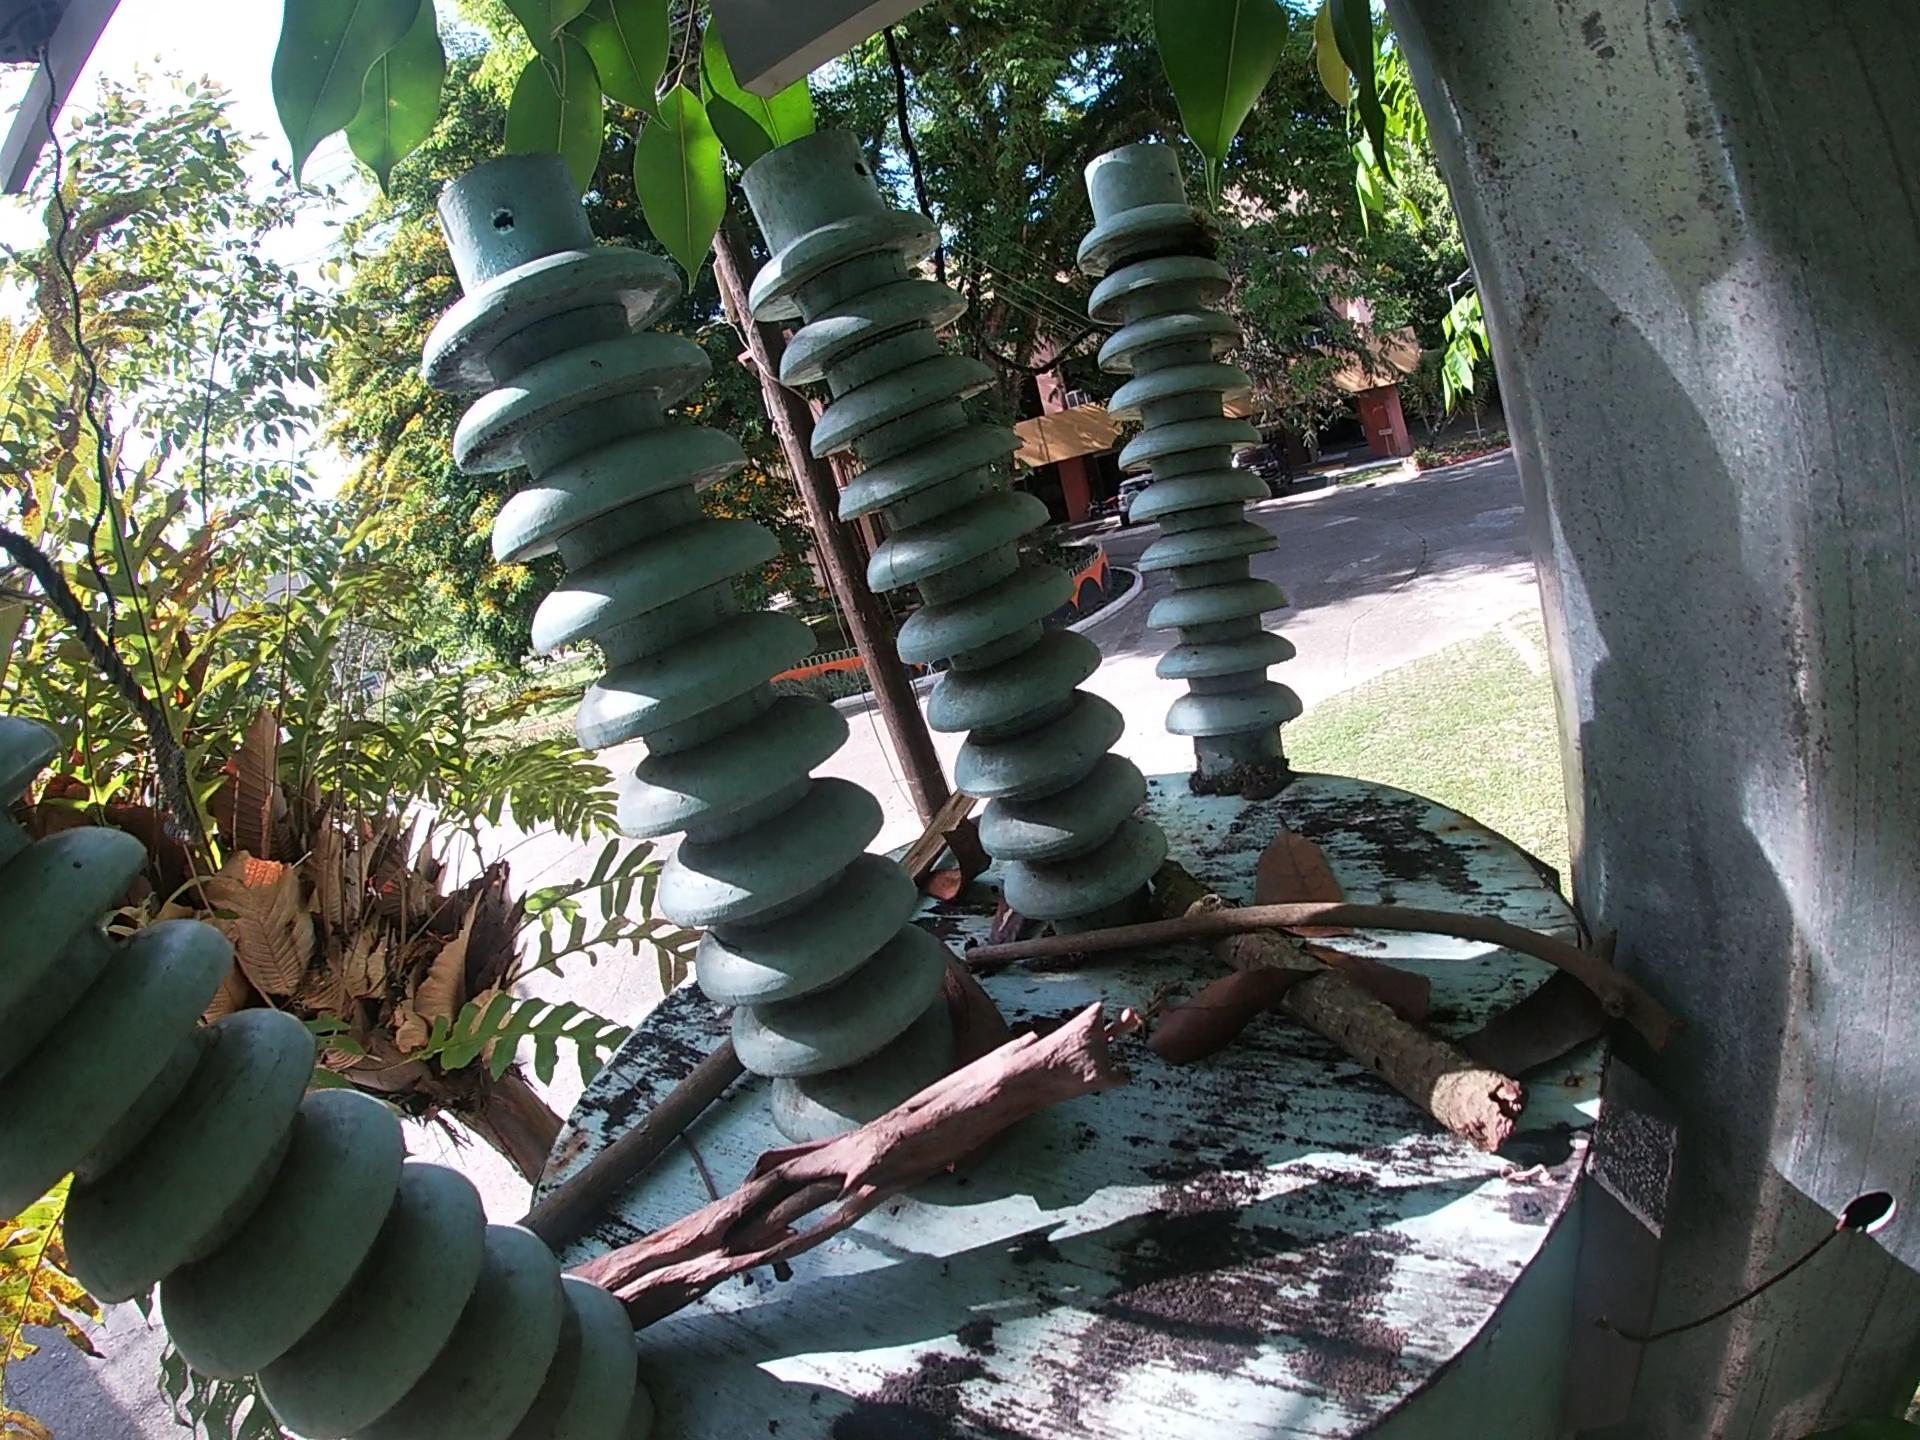leaf: (1454, 926, 1633, 1088), (1143, 957, 1332, 1069), (1243, 818, 1389, 954), (1309, 935, 1448, 1033)
mahogany fruit: (928, 936, 1025, 1181), (918, 812, 993, 915)
tree branch: (561, 992, 1150, 1330), (1140, 849, 1531, 1168), (958, 895, 1689, 1063), (505, 1033, 751, 1262), (901, 777, 975, 895)
